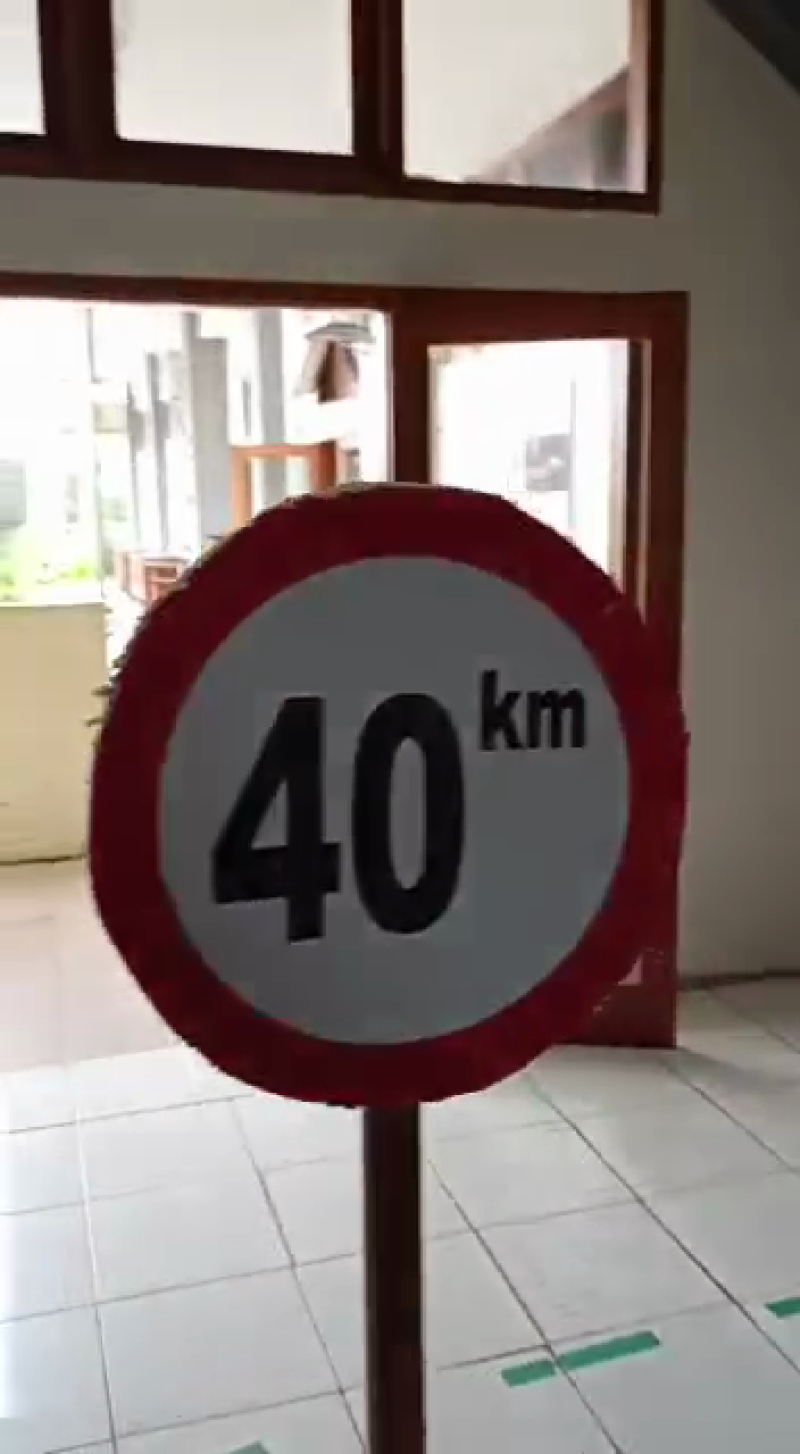batas maksimal 40kmperjam: (89, 477, 702, 1121)
